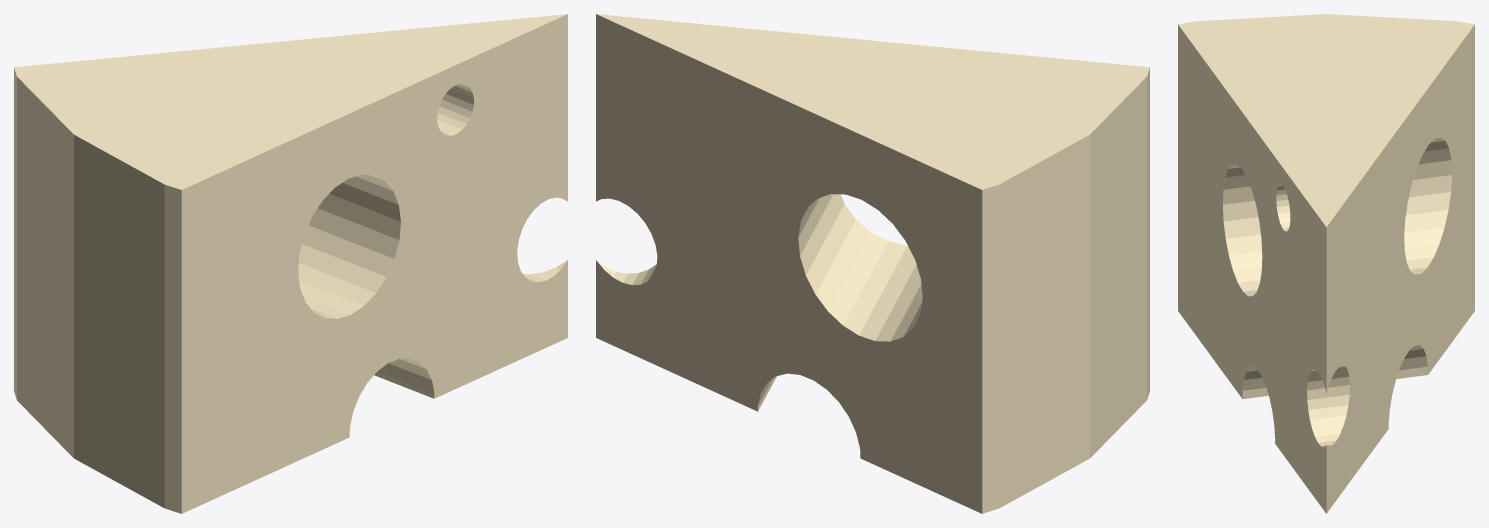
Rendered from Gruyere.fbx.
3 renders of one model, left to right at view 1: azimuth 30°, elevation 25°; view 2: azimuth 150°, elevation 25°; view 3: azimuth 270°, elevation 25°, orthographic. The views are drawn at different scales.
Visible parts, largest first — view 1: skp3654_1; view 2: skp3654_1; view 3: skp3654_1.
Boxes of the visible parts, x1,y1,x2,y2 form: skp3654_1: [14, 14, 567, 513]; skp3654_1: [596, 14, 1149, 513]; skp3654_1: [1178, 14, 1474, 513].
Bounding box in the file's own units: 12.25 × 7.68 × 7.2.
